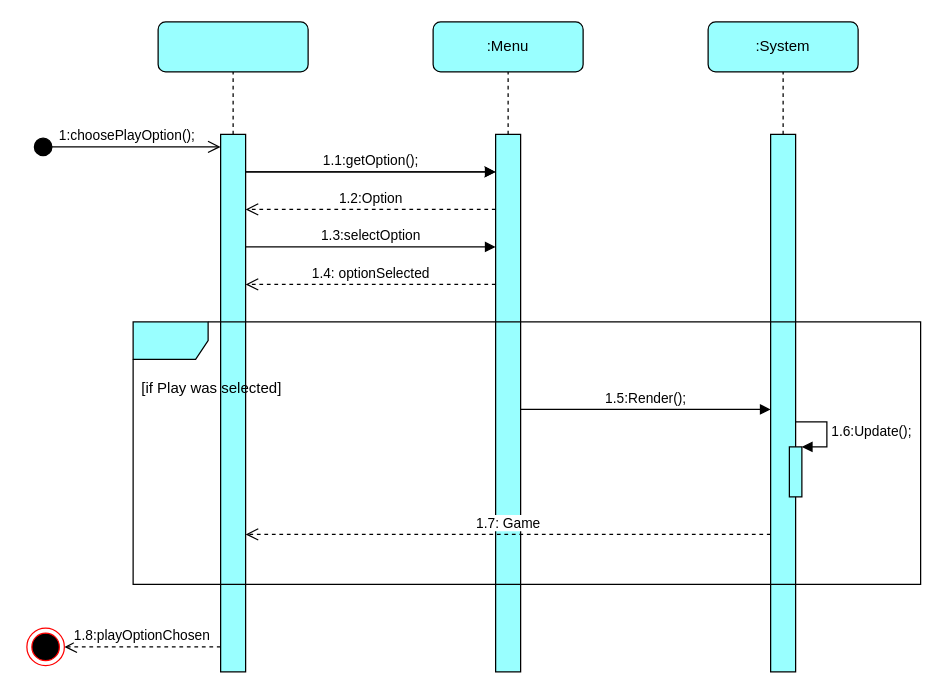
This 943x694 diagram has some shape labels left out. The shapes that lost their labels are listed below. From the top down, each one's centre as x and y in pixels, then its label:
At (232,46): ":Player".
At (526,452): "OPT".
